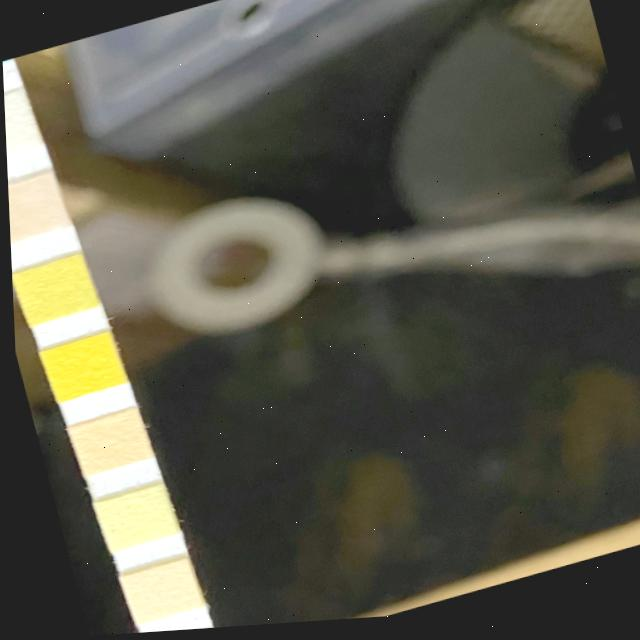Bilirubin: (3, 90, 38, 159)
Blood: (41, 334, 120, 401)
Ketone: (6, 175, 62, 241)
Protein: (93, 487, 171, 550)
SpGravity: (14, 257, 93, 324)
Urobilinogen: (119, 561, 193, 622)
pH: (67, 412, 142, 476)
